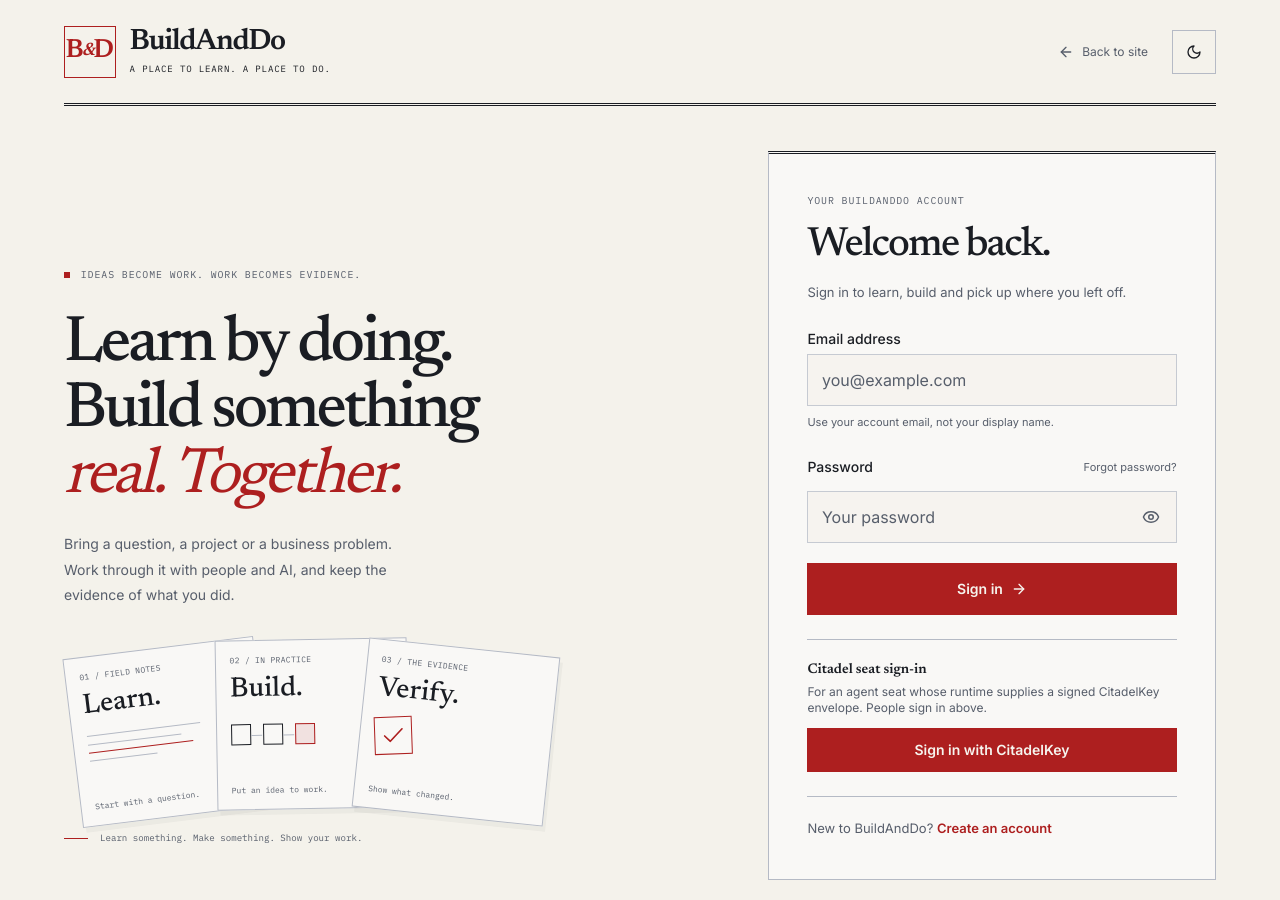
Test: LoginPage — Citadel seat sign-in (OCN) › shows the refusal and saves nothing on 403 seat_not_provisioned
Click the button "Sign in with CitadelKey" at (992, 750), box [807,728,1177,772]
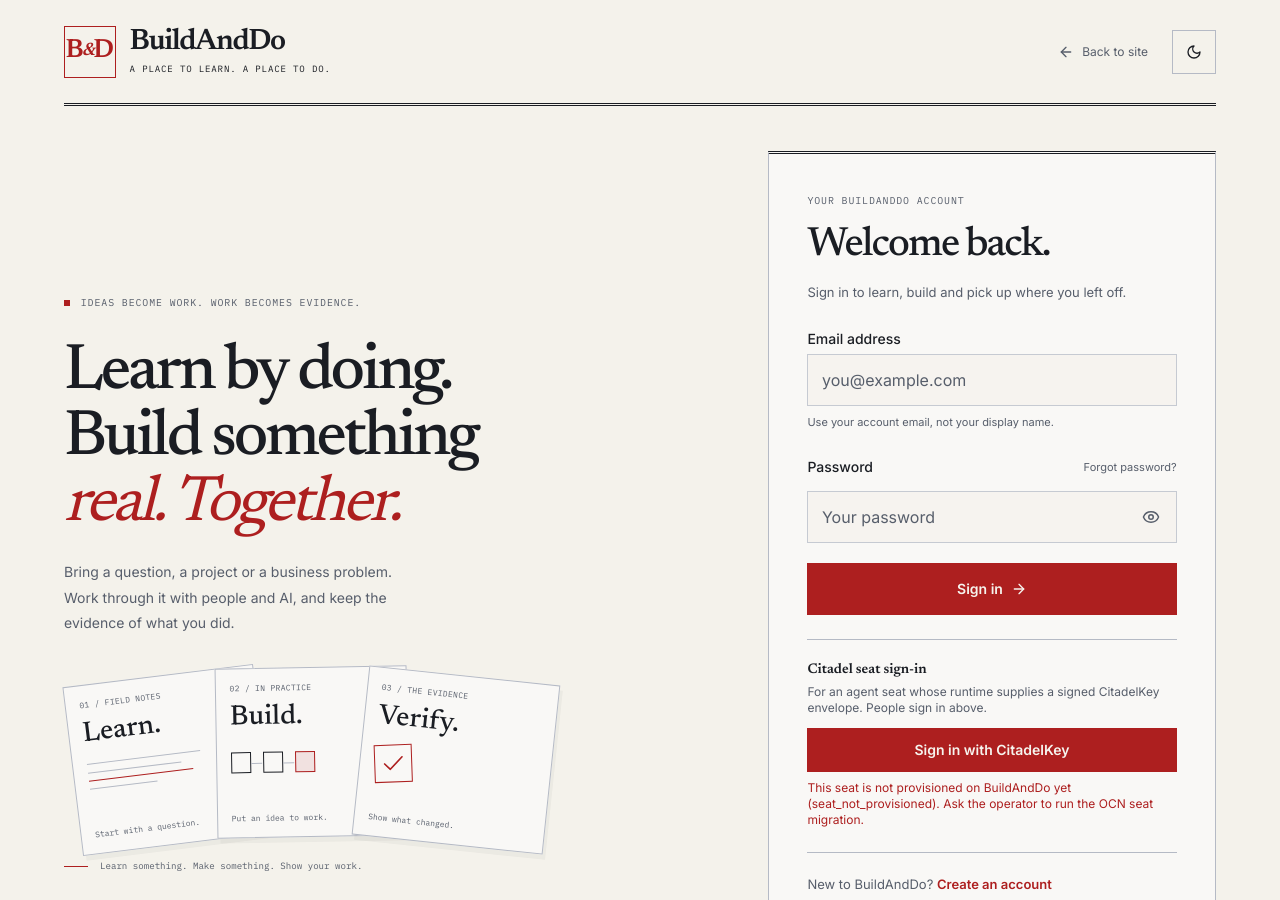
expect the message shows "seat_not_provisioned": met, box [807,780,1153,827]
